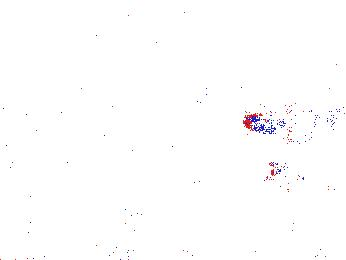flame jellyfish: (70, 172, 156, 229), (245, 101, 331, 145), (265, 160, 330, 212)
